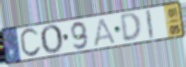9: (70, 20, 91, 51)
A: (93, 17, 117, 48)
C: (19, 27, 43, 59)
D: (119, 11, 143, 43)
I: (144, 9, 155, 40)
O: (39, 24, 64, 56)
